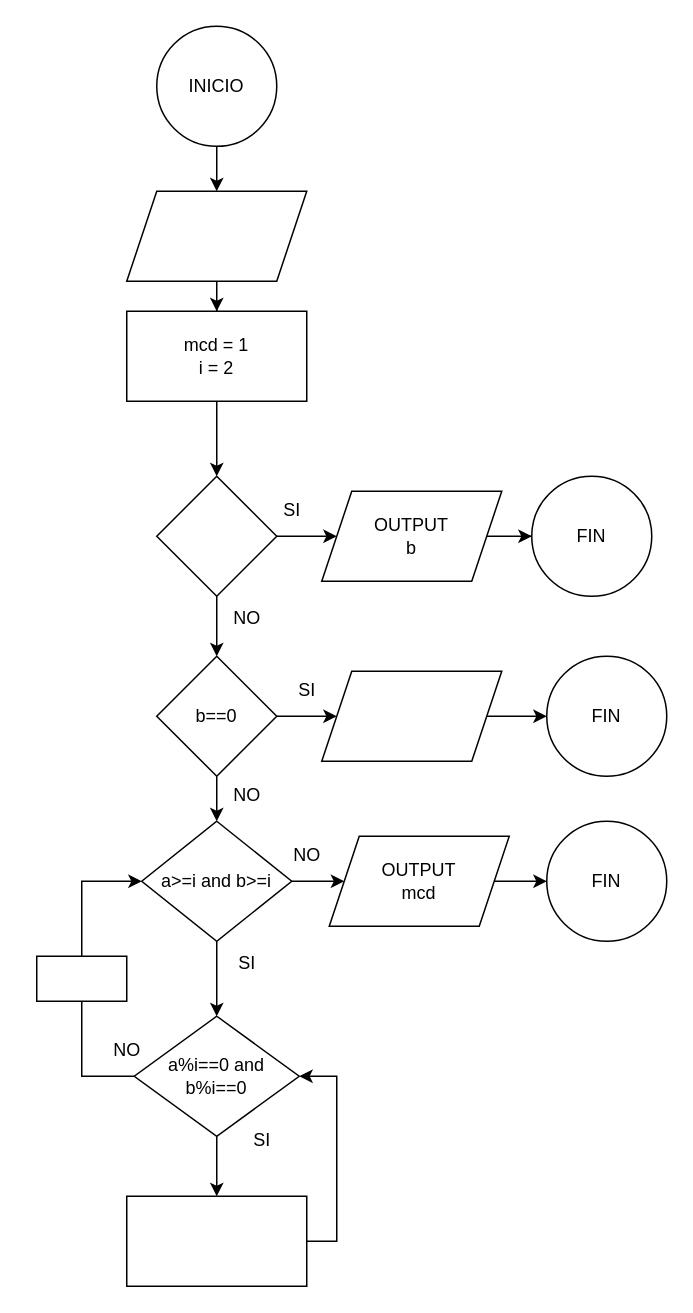
This 693x1313 diagram has some shape labels left out. The centre of each missing label's shape, as x and y in pixels:
"++i" goes at pixel 81 978.
"a==0" goes at pixel 216 535.
"INPUT a, b" goes at pixel 216 235.
"mcd = mcd * i a = a/ i b = b/ i" goes at pixel 216 1240.
"OUTPUT a" goes at pixel 411 715.
